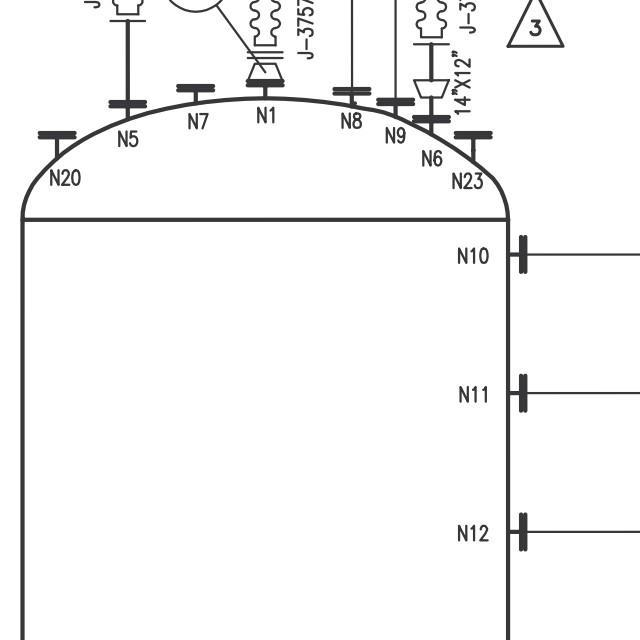SP: (410, 73, 454, 103), (240, 57, 291, 82)
